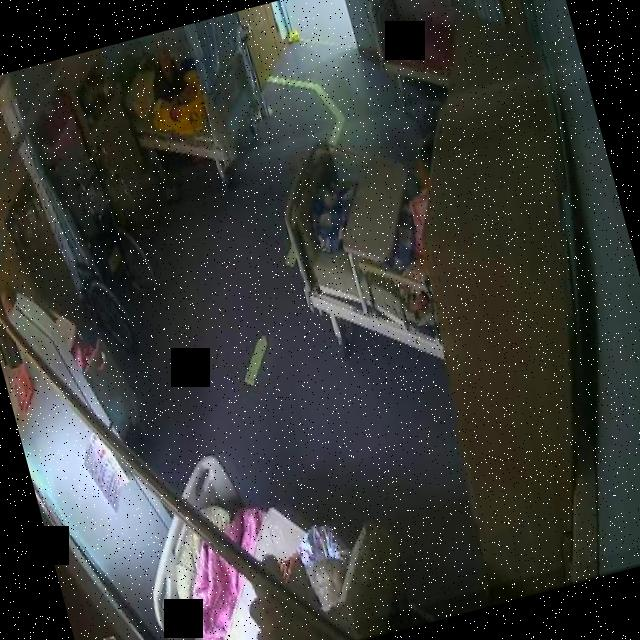bed: (119, 419, 400, 640), (266, 119, 457, 388), (114, 29, 268, 184), (350, 0, 464, 93)
